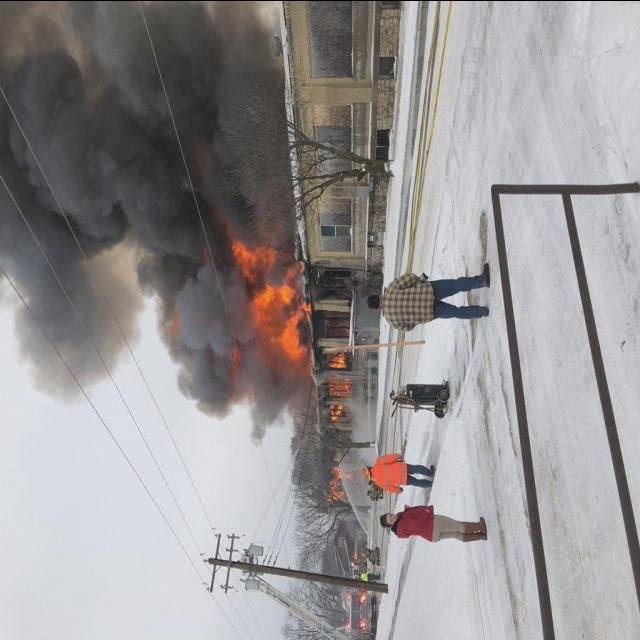Fire: (232, 245, 308, 369), (328, 351, 345, 370), (330, 401, 345, 422), (329, 466, 340, 488)
